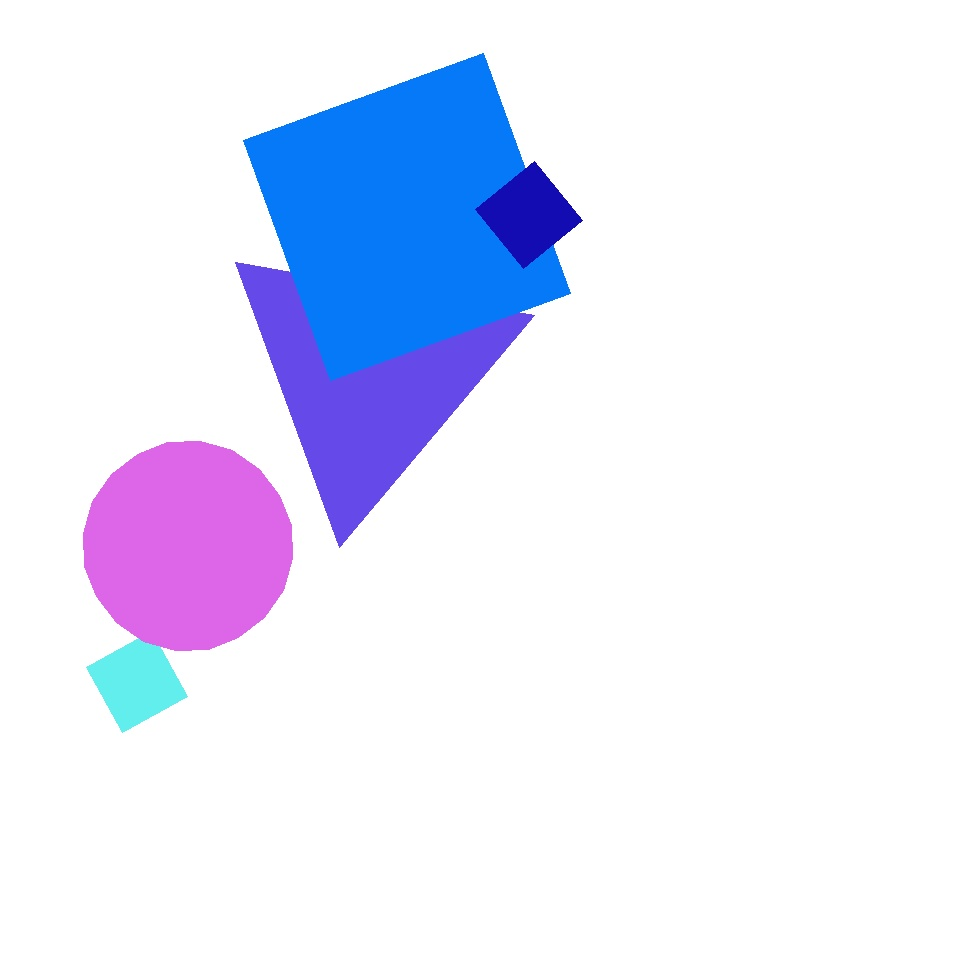circle: (221, 232, 520, 518), (496, 59, 758, 329), (365, 784, 493, 930)
square: (244, 54, 570, 380), (476, 162, 582, 269), (86, 632, 188, 732)
triangle: (84, 441, 292, 650), (748, 302, 924, 480)
